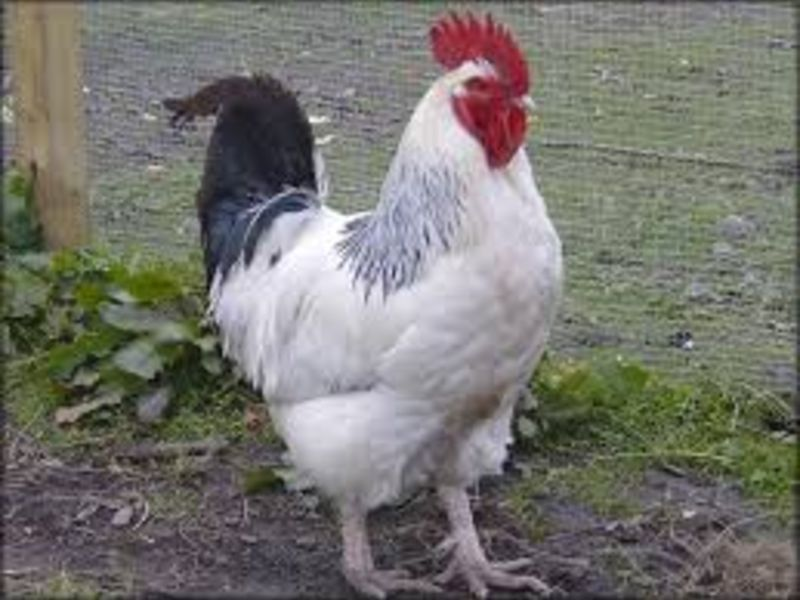hen: (162, 6, 568, 600)
